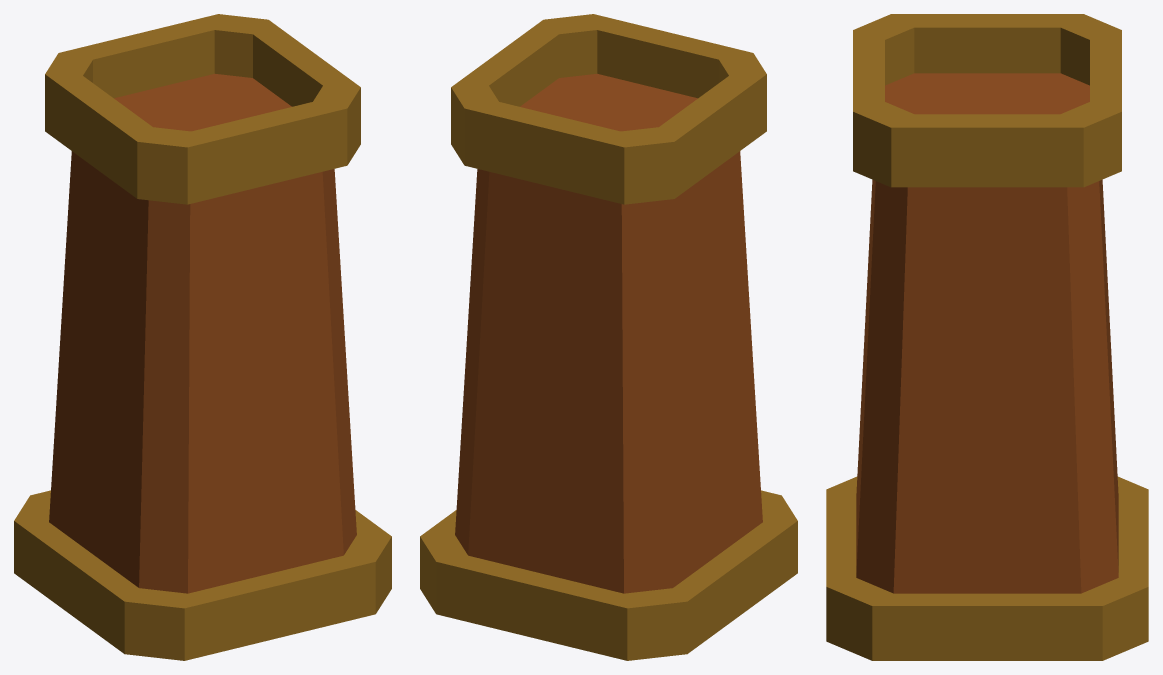
Rendered from Muro_Nv1.glb.
3 renders of one model, left to right at view 1: azimuth 30°, elevation 25°; view 2: azimuth 150°, elevation 25°; view 3: azimuth 270°, elevation 25°, orthographic. The views are drawn at different scales.
Parts seen in each view (by area): view 1: Cube; view 2: Cube; view 3: Cube.
Boxes of the visible parts, x1,y1,x2,y2 form: Cube: [14, 14, 391, 660]; Cube: [420, 14, 797, 660]; Cube: [826, 14, 1148, 660].
Size of the model in its own units: 0.9153 by 1.64 by 0.9153.
